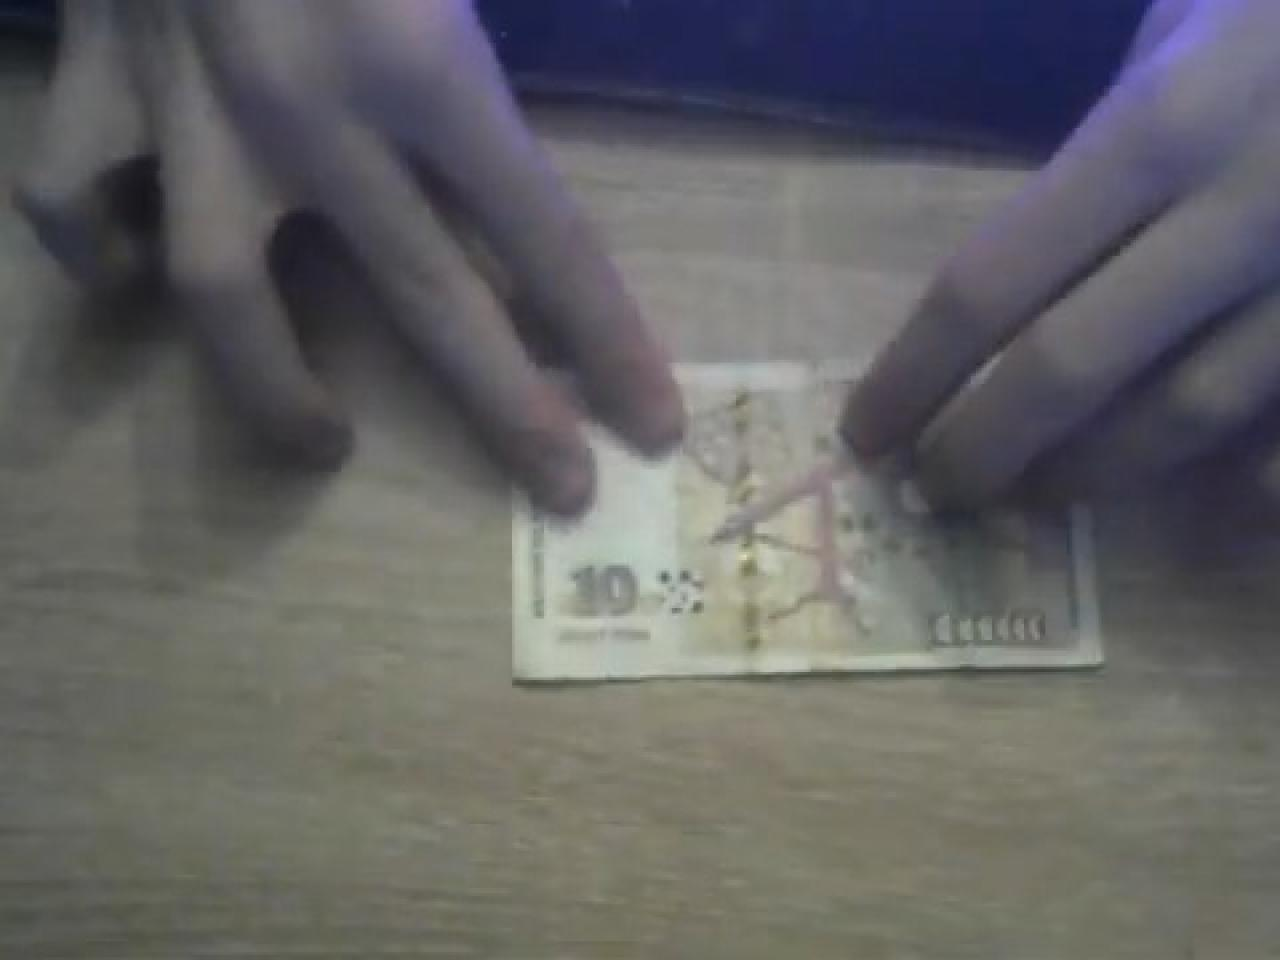10leva: (515, 168, 1104, 688)
